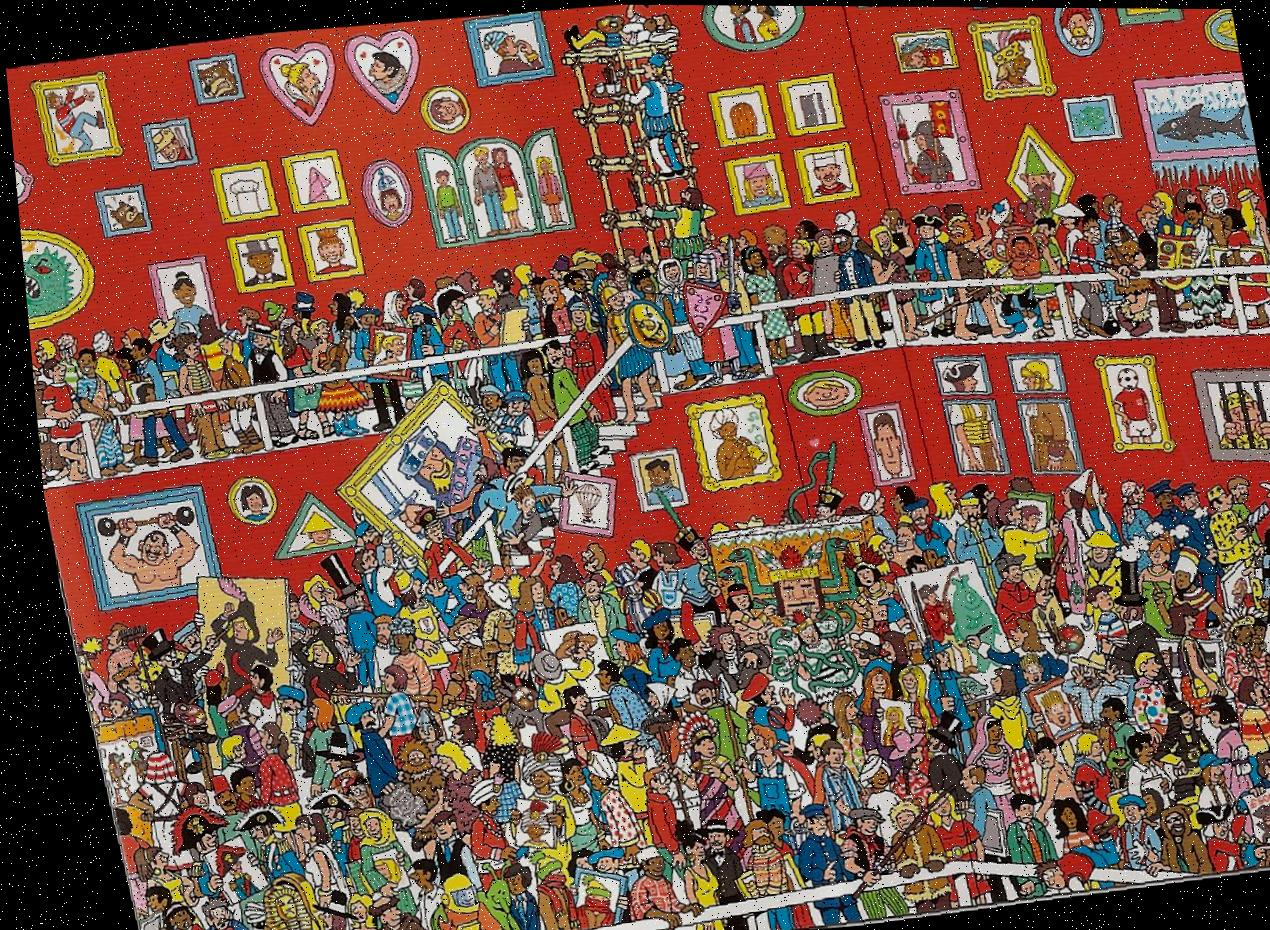waldo: (319, 770, 359, 808)
